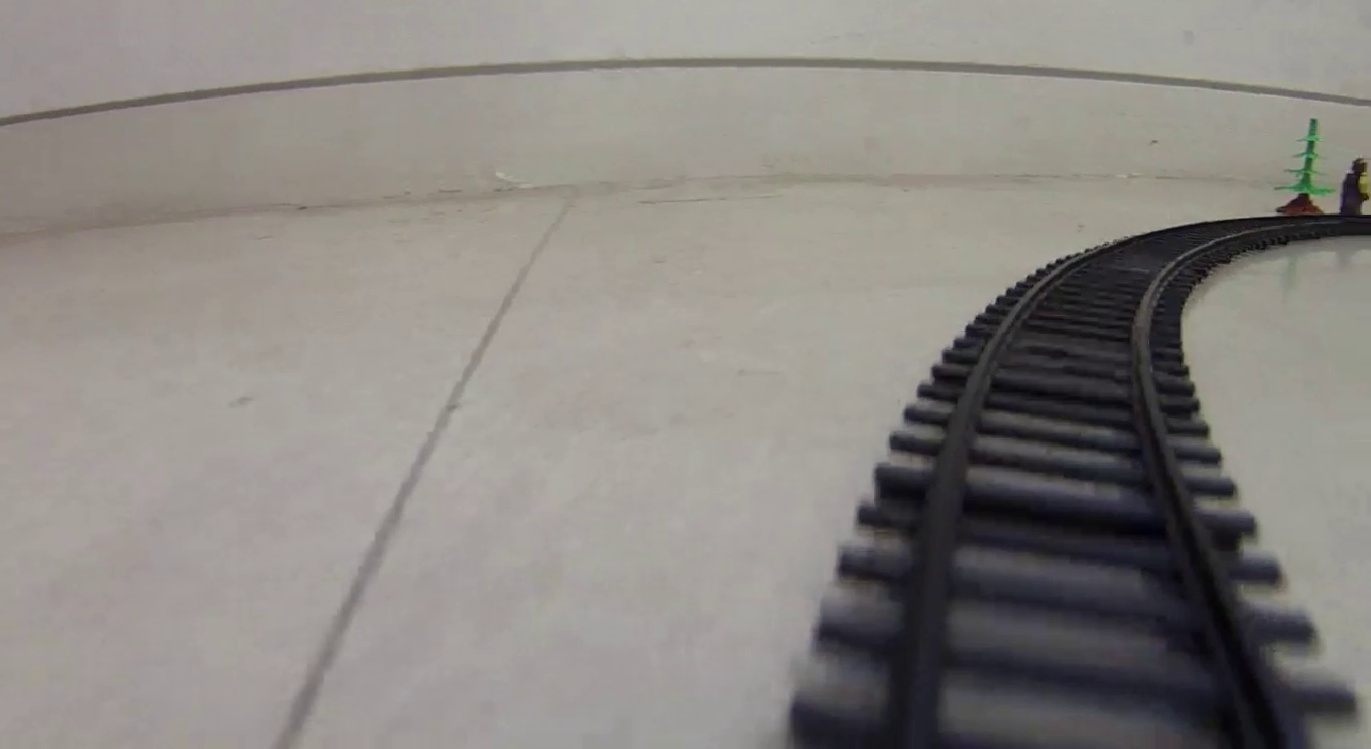tree: (1272, 117, 1335, 212)
